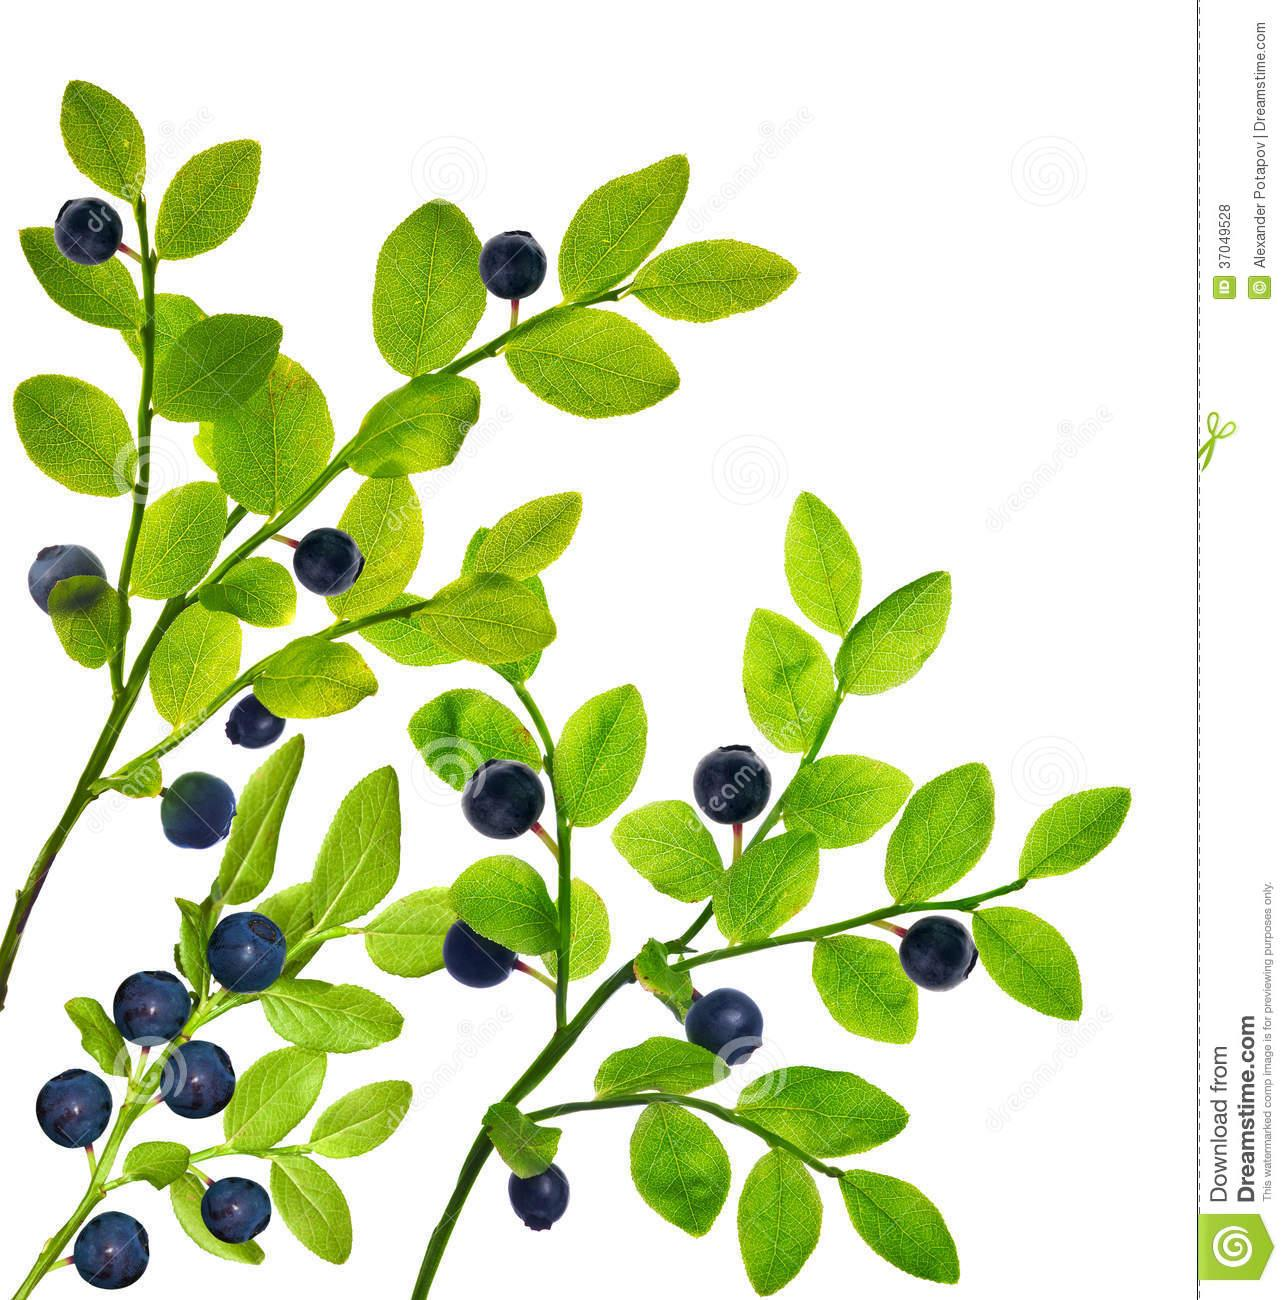Blueberry leaf: (553, 145, 715, 306), (834, 560, 1006, 702), (293, 752, 416, 951), (504, 310, 695, 425), (362, 186, 478, 370), (958, 897, 1111, 1036), (727, 1058, 955, 1151), (204, 730, 312, 909), (877, 764, 1016, 899), (454, 476, 598, 603), (834, 1162, 969, 1298), (625, 235, 808, 332), (407, 570, 557, 682), (151, 136, 271, 272), (563, 668, 665, 830), (48, 74, 165, 213), (628, 1094, 732, 1249), (240, 628, 392, 733), (774, 474, 871, 636), (807, 926, 923, 1062), (740, 599, 836, 763), (7, 382, 131, 508), (713, 832, 839, 955), (440, 847, 570, 964), (139, 587, 247, 726), (153, 314, 290, 422), (735, 1143, 831, 1296), (592, 793, 719, 906), (350, 372, 490, 474), (783, 746, 911, 854), (134, 476, 247, 599), (1014, 780, 1142, 886), (220, 1037, 335, 1153), (265, 1148, 361, 1285), (263, 975, 408, 1064), (306, 1078, 420, 1163)
